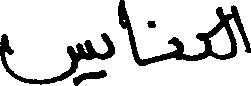X: (0, 29, 93, 85), (121, 0, 139, 70), (216, 0, 235, 64), (197, 22, 214, 65), (237, 5, 250, 57), (103, 28, 113, 82), (171, 32, 181, 64)
